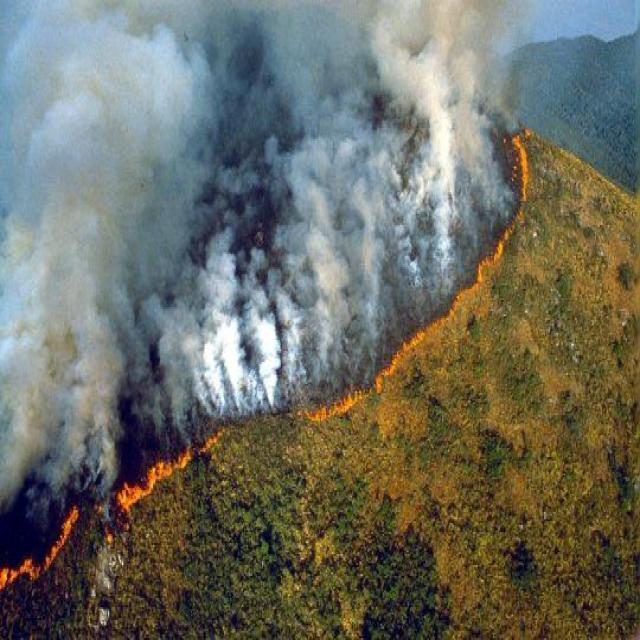Fire: (0, 507, 96, 607), (243, 388, 363, 450), (122, 440, 215, 503), (500, 128, 532, 231), (372, 344, 422, 394), (423, 304, 465, 332)
Smoke: (18, 55, 145, 316), (4, 216, 110, 461), (215, 62, 353, 250), (413, 18, 488, 182)
